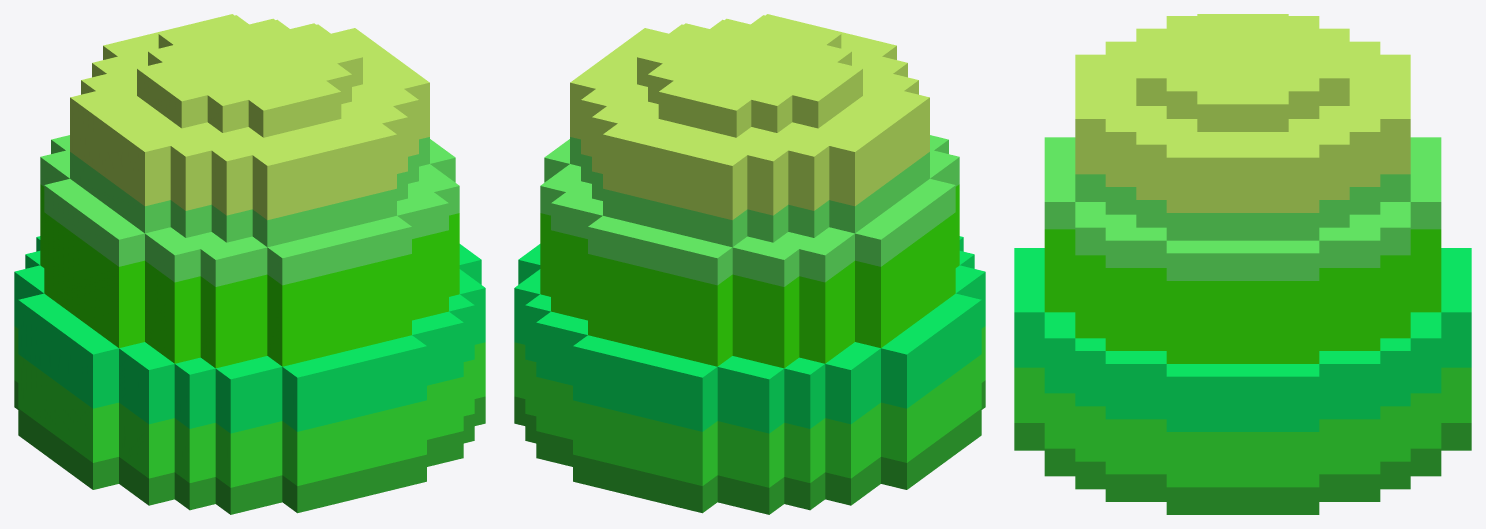
Rendered from bush.obj.
The picture shows the model from 3 angles, left to right: view 1: azimuth 30°, elevation 25°; view 2: azimuth 150°, elevation 25°; view 3: azimuth 270°, elevation 25°; orthographic projection.
Size of the model in its own units: 1.5 by 1.3 by 1.5.
Materials: 1 (1 with a texture image).
